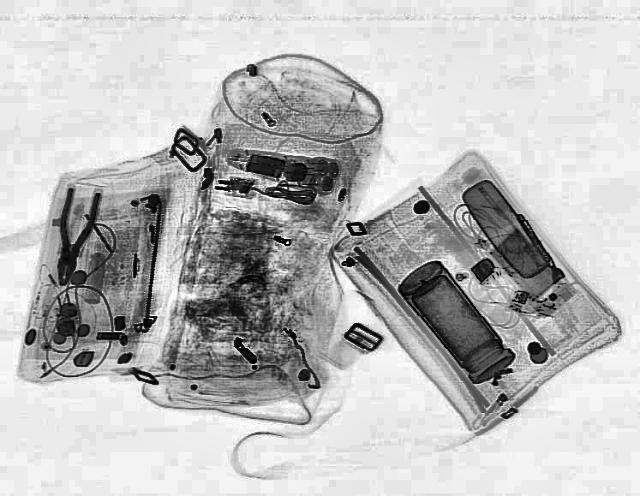Pliers: (42, 186, 102, 286)
